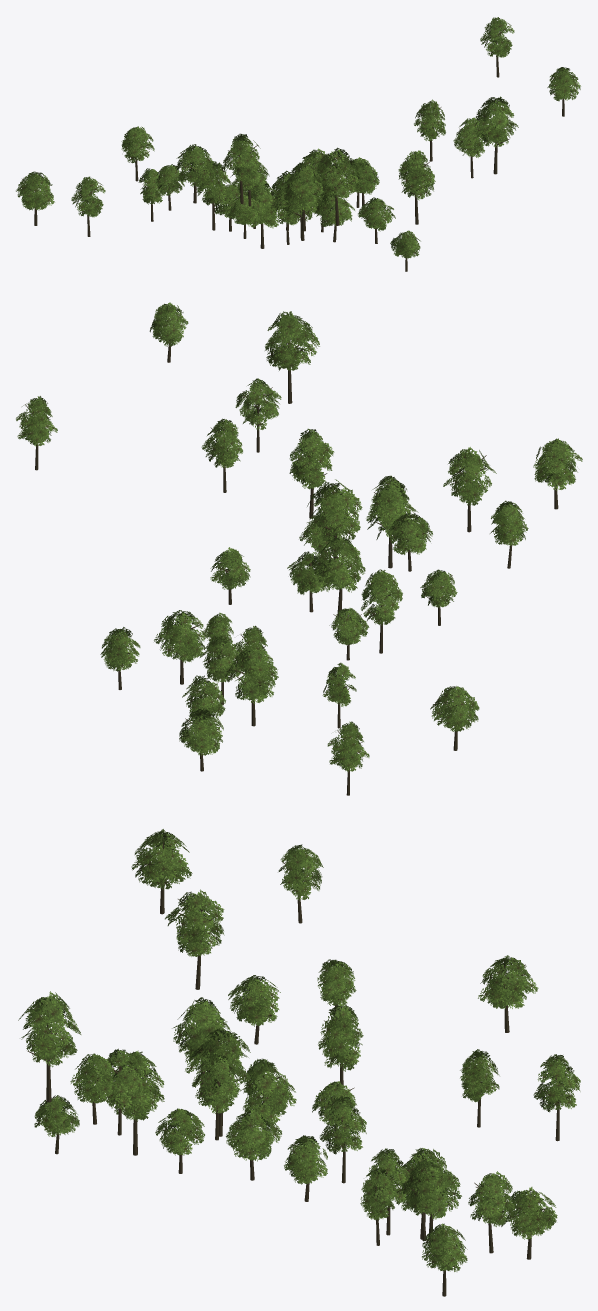
The model's file is TRB8-FOREST-CHUNK-4-0.glb.
The picture shows the model from 3 angles, top to bottom: view 1: azimuth 30°, elevation 25°; view 2: azimuth 150°, elevation 25°; view 3: azimuth 270°, elevation 25°; orthographic projection. The views are drawn at different scales.
Parts seen in each view (by area): view 1: TRB8-FOREST-CHUNK-4-0; view 2: TRB8-FOREST-CHUNK-4-0; view 3: TRB8-FOREST-CHUNK-4-0.
Part boxes in pixels (box(x1,y1,x2,y2)): TRB8-FOREST-CHUNK-4-0: box(16, 17, 580, 271); TRB8-FOREST-CHUNK-4-0: box(16, 302, 582, 795); TRB8-FOREST-CHUNK-4-0: box(18, 829, 580, 1296).
Size of the model in its own units: 36.31 by 18.58 by 28.75.
Materials: 2 (1 with a texture image).
